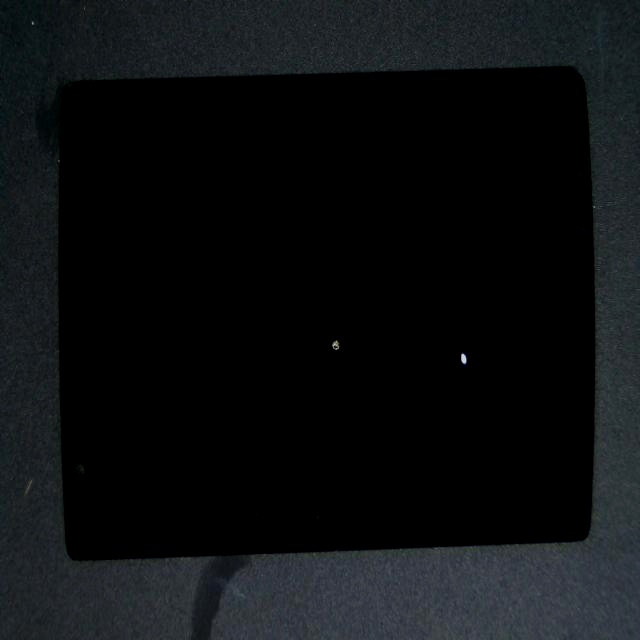stain: (244, 210, 640, 536), (159, 119, 496, 502)
